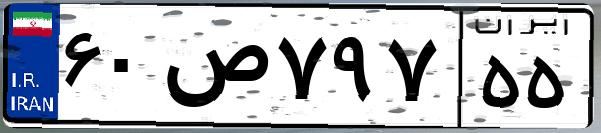0: (110, 28, 158, 98)
5: (475, 38, 525, 113), (525, 38, 570, 115)
6: (57, 26, 110, 100)
7: (270, 28, 330, 110), (385, 28, 445, 110)
9: (330, 28, 385, 110)
ص: (158, 20, 270, 120)
